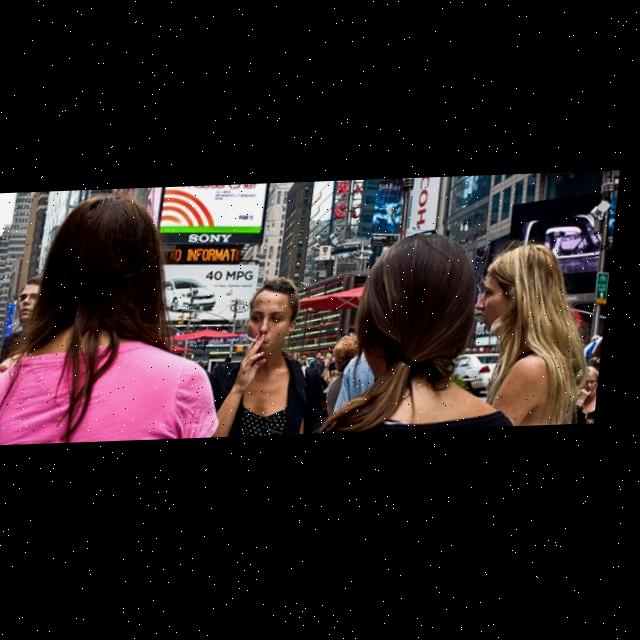cigarette: (253, 337, 266, 344)
